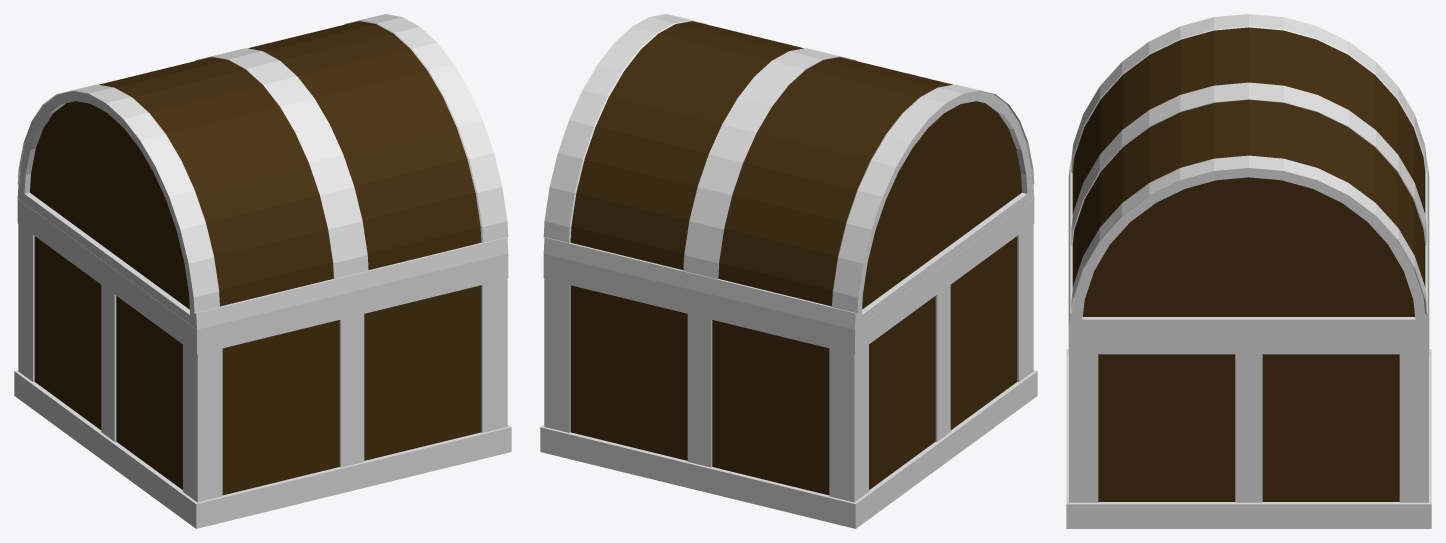
Rendered from Chest.fbx.
The picture shows the model from 3 angles, left to right: view 1: azimuth 30°, elevation 25°; view 2: azimuth 150°, elevation 25°; view 3: azimuth 270°, elevation 25°; orthographic projection.
Visible parts, largest first — view 1: Cube; view 2: Cube; view 3: Cube.
Part boxes in pixels (x1,y1,x2,y2): Cube: (14, 14, 511, 528); Cube: (540, 14, 1037, 528); Cube: (1066, 14, 1431, 528).
Size of the model in its own units: 47.43 by 51.56 by 47.37.
